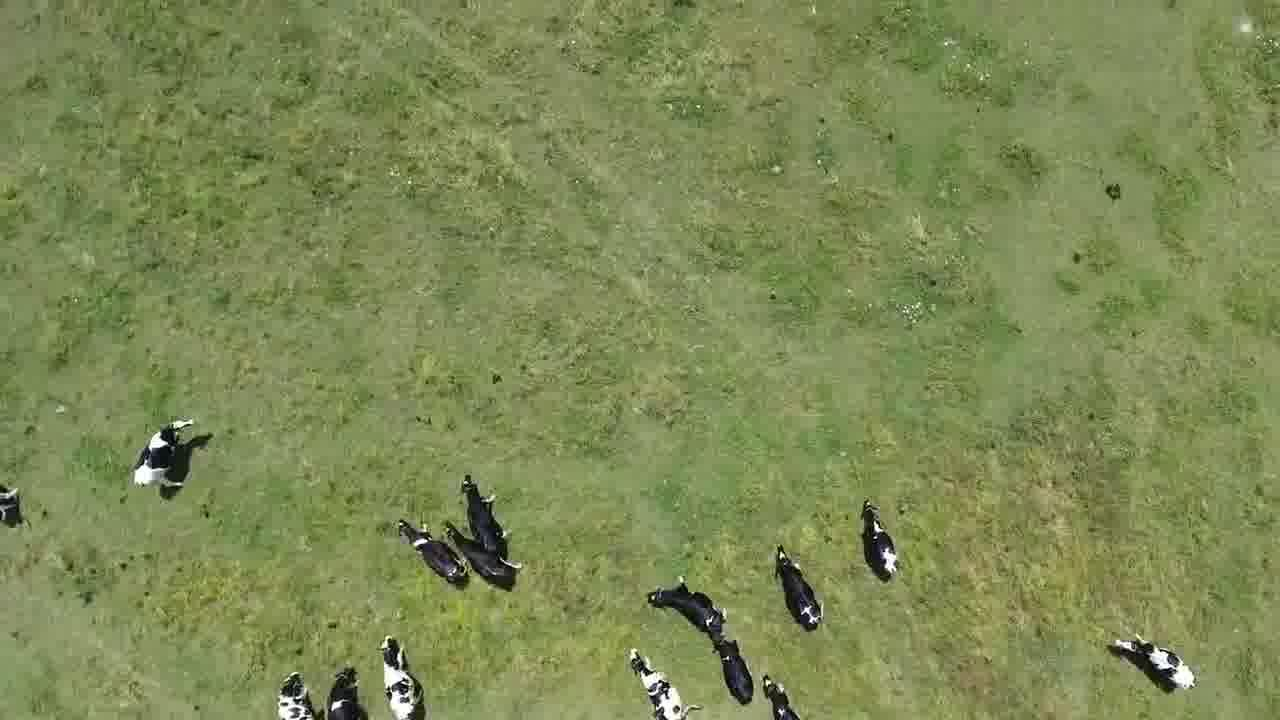cow: (127, 414, 199, 499), (1110, 629, 1202, 695), (626, 646, 704, 720), (441, 517, 521, 586), (771, 540, 828, 635), (393, 515, 469, 583), (455, 472, 518, 554), (644, 572, 728, 633), (374, 629, 427, 720), (703, 631, 758, 708), (854, 496, 904, 578), (321, 661, 373, 720), (275, 666, 318, 720), (760, 672, 805, 720)
